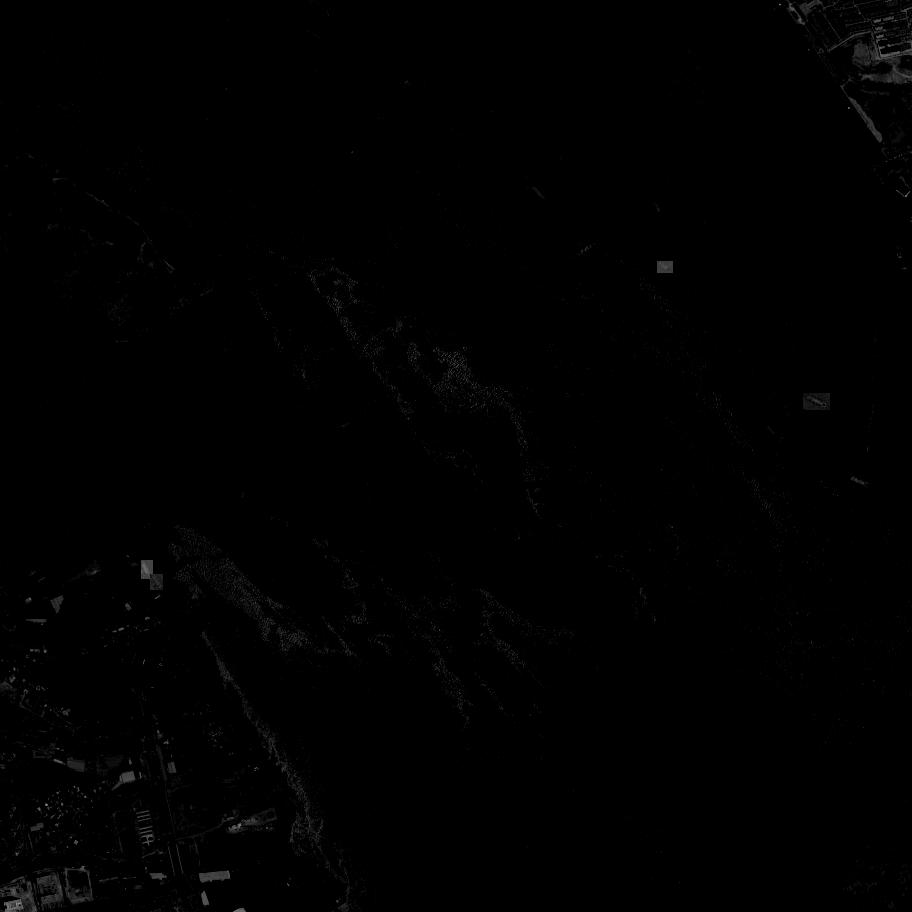ship: (343, 140, 390, 204), (500, 304, 537, 339), (526, 180, 552, 208), (760, 420, 786, 445), (803, 394, 831, 412), (746, 460, 772, 479), (848, 475, 873, 492), (606, 292, 626, 313), (406, 56, 429, 72), (705, 370, 721, 391), (395, 92, 417, 106), (576, 244, 596, 259), (347, 64, 363, 82), (236, 488, 251, 507), (167, 593, 183, 610), (790, 411, 807, 426), (440, 64, 457, 79), (142, 560, 155, 579), (150, 575, 164, 592), (605, 205, 623, 218), (58, 532, 74, 546), (657, 261, 674, 274), (870, 196, 882, 214), (350, 547, 371, 557), (846, 172, 865, 183), (650, 199, 663, 215), (204, 663, 216, 679), (214, 676, 224, 695), (892, 486, 909, 497), (241, 827, 275, 832), (400, 79, 417, 89), (255, 750, 265, 767), (182, 627, 202, 635), (227, 701, 236, 718), (559, 481, 578, 489), (238, 717, 245, 734), (259, 861, 273, 865), (124, 554, 131, 559)
